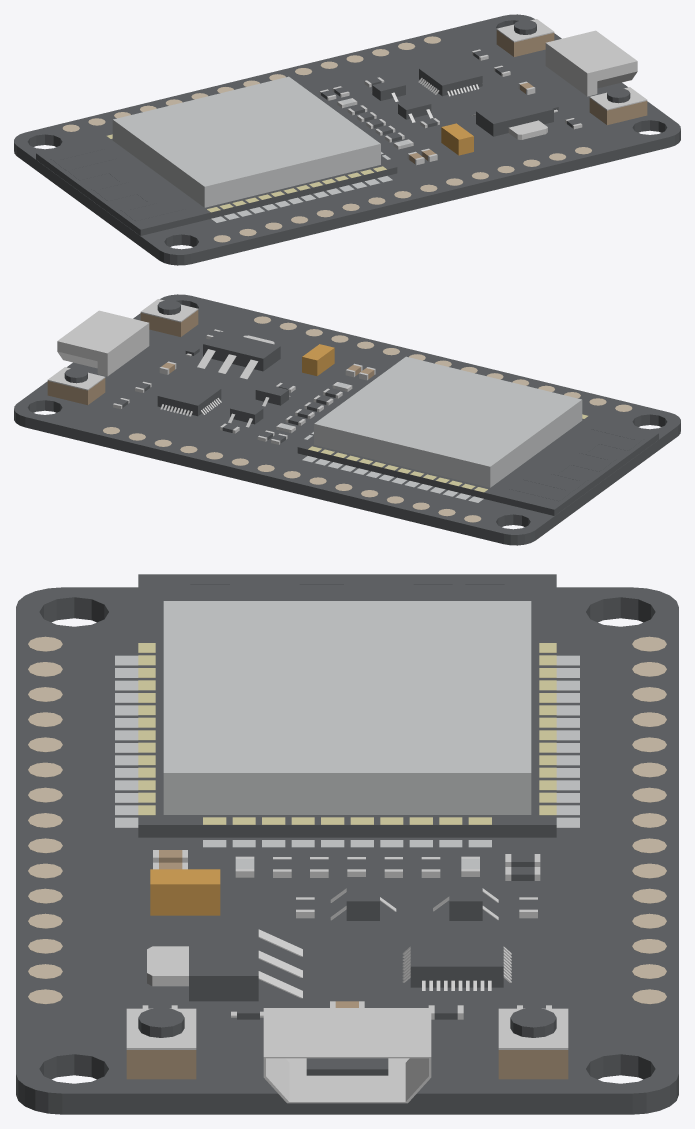
File: esp32.glb
The picture shows the model from 3 angles, top to bottom: view 1: azimuth 30°, elevation 25°; view 2: azimuth 150°, elevation 25°; view 3: azimuth 270°, elevation 25°; orthographic projection. The views are drawn at different scales.
Visible parts, largest first — view 1: Mesh_Mesh_head_geo001_lambert2SG001; view 2: Mesh_Mesh_head_geo001_lambert2SG001; view 3: Mesh_Mesh_head_geo001_lambert2SG001.
Part boxes in pixels (x1,y1,x2,y2): Mesh_Mesh_head_geo001_lambert2SG001: (14,14,680,265); Mesh_Mesh_head_geo001_lambert2SG001: (14,294,680,545); Mesh_Mesh_head_geo001_lambert2SG001: (16,574,678,1114).
Bounding box in the file's own units: 42 × 2.9 × 22.8.
